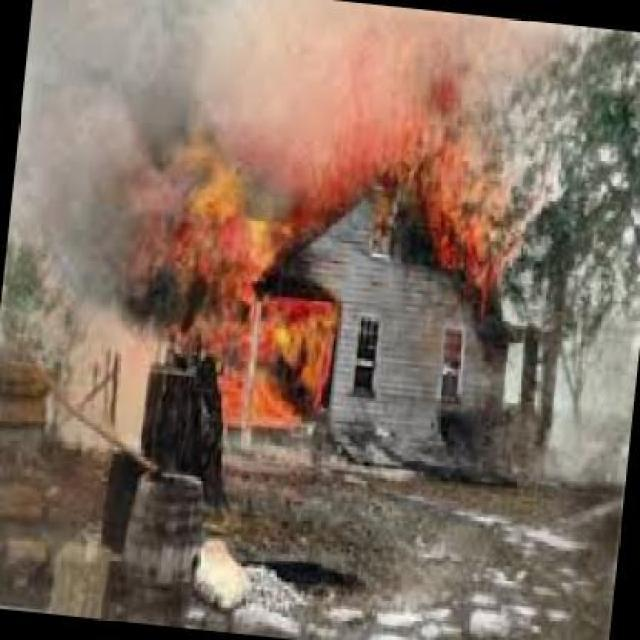Fire: (150, 180, 336, 434), (316, 106, 498, 286)
Smoke: (32, 6, 141, 312), (221, 4, 519, 108)
